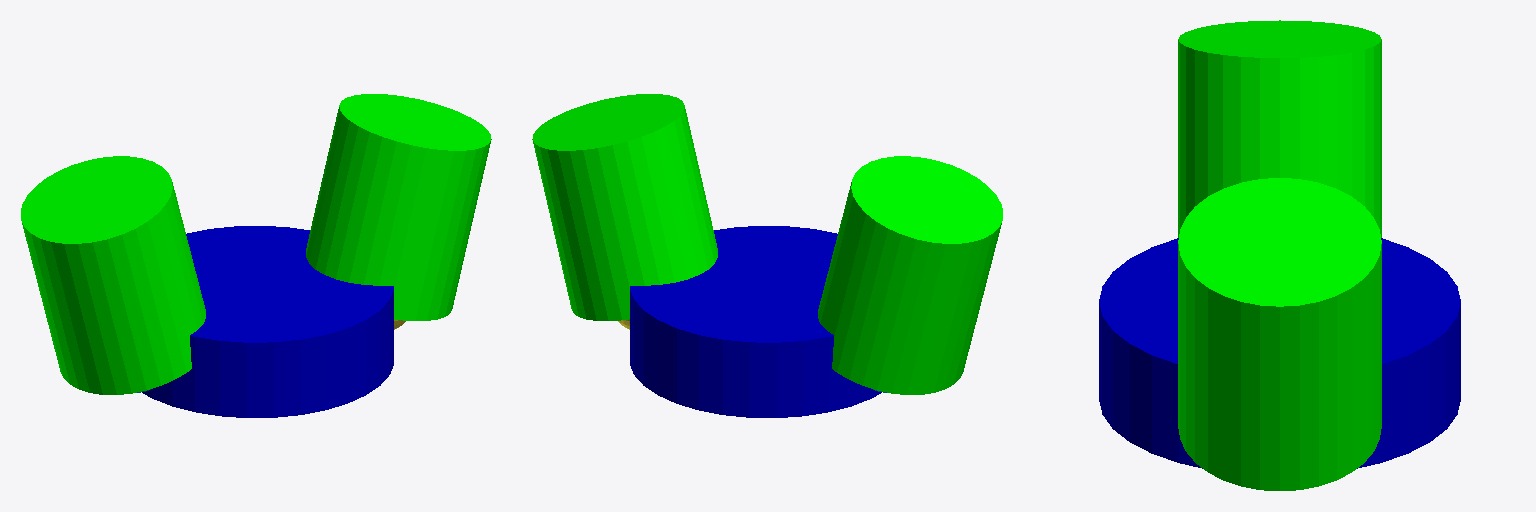
The robot description file, URDF, robot "gripper_2f_1j":
<?xml version='1.0' encoding='UTF-8'?>
<robot name="gripper_2f_1j">
  <link name="palm">
    <inertial>
      <origin xyz="0.0 0.0 0.0" rpy="0.0 -0.0 0.0"/>
      <mass value="1.0"/>
      <inertia ixx="1.0" ixy="0.0" ixz="0.0" iyy="1.0" iyz="0.0" izz="1.0"/>
    </inertial>
    <visual>
      <geometry>
        <cylinder radius="0.05" length="0.03"/>
      </geometry>
      <material name="blue"/>
      <origin xyz="0.0 0.0 0.0" rpy="0.0 -0.0 0.0"/>
    </visual>
    <collision>
      <geometry>
        <cylinder radius="0.05" length="0.03"/>
      </geometry>
      <origin xyz="0.0 0.0 0.0" rpy="0.0 0.0 0.0"/>
    </collision>
  </link>
  <link name="f11">
    <inertial>
      <origin xyz="0.0 0.0 0.0" rpy="0.0 -0.0 0.0"/>
      <mass value="1.0"/>
      <inertia ixx="1.0" ixy="0.0" ixz="0.0" iyy="1.0" iyz="0.0" izz="1.0"/>
    </inertial>
    <visual>
      <geometry>
        <cylinder radius="0.028120199259983766" length="0.06597677972001004"/>
      </geometry>
      <material name="green"/>
      <origin xyz="0.0 0.0 0.03298838986000502" rpy="0.0 -0.0 0.0"/>
    </visual>
    <collision>
      <geometry>
        <cylinder radius="0.028120199259983766" length="0.06597677972001004"/>
      </geometry>
      <origin xyz="0.0 0.0 0.05" rpy="0.0 0.0 0.0"/>
    </collision>
  </link>
  <link name="f21">
    <inertial>
      <origin xyz="0.0 0.0 0.0" rpy="0.0 -0.0 0.0"/>
      <mass value="1.0"/>
      <inertia ixx="1.0" ixy="0.0" ixz="0.0" iyy="1.0" iyz="0.0" izz="1.0"/>
    </inertial>
    <visual>
      <geometry>
        <cylinder radius="0.028120199259983766" length="0.06597677972001004"/>
      </geometry>
      <material name="green"/>
      <origin xyz="0.0 0.0 0.03298838986000502" rpy="0.0 -0.0 0.0"/>
    </visual>
    <collision>
      <geometry>
        <cylinder radius="0.028120199259983766" length="0.06597677972001004"/>
      </geometry>
      <origin xyz="0.0 0.0 0.05" rpy="0.0 0.0 0.0"/>
    </collision>
  </link>
  <link name="f11_base">
    <inertial>
      <origin xyz="0.0 0.0 0.0" rpy="0.0 -0.0 0.0"/>
      <mass value="1.0"/>
      <inertia ixx="1.0" ixy="0.0" ixz="0.0" iyy="1.0" iyz="0.0" izz="1.0"/>
    </inertial>
    <visual>
      <geometry>
        <sphere radius="0.015"/>
      </geometry>
      <origin xyz="0.0 0.0 0.0" rpy="0.0 -0.0 0.0"/>
    </visual>
  </link>
  <link name="f21_base">
    <inertial>
      <origin xyz="0.0 0.0 0.0" rpy="0.0 -0.0 0.0"/>
      <mass value="1.0"/>
      <inertia ixx="1.0" ixy="0.0" ixz="0.0" iyy="1.0" iyz="0.0" izz="1.0"/>
    </inertial>
    <visual>
      <geometry>
        <sphere radius="0.015"/>
      </geometry>
      <origin xyz="0.0 0.0 0.0" rpy="0.0 -0.0 0.0"/>
    </visual>
  </link>
  <joint name="f11_joint" type="revolute">
    <dynamics damping="100.0" friction="1.0"/>
    <limit effort="30.0" velocity="2.0" lower="-0.6" upper="0.25"/>
    <parent link="f11_base"/>
    <child link="f11"/>
    <axis xyz="0. 1. 0."/>
    <origin xyz="0.0 0.0 0.0" rpy="0.0 0.25 0.0"/>
  </joint>
  <joint name="f21_joint" type="revolute">
    <dynamics damping="100.0" friction="1.0"/>
    <limit effort="30.0" velocity="2.0" lower="-0.6" upper="0.25"/>
    <parent link="f21_base"/>
    <child link="f21"/>
    <axis xyz=" 0. -1.  0."/>
    <origin xyz="0.0 0.0 0.0" rpy="0.0 -0.25 0.0"/>
  </joint>
  <joint name="f11_base_joint" type="fixed">
    <parent link="palm"/>
    <child link="f11_base"/>
    <axis xyz="1. 0. 0."/>
    <origin xyz="0.05 0.0 0.0" rpy="0.0 0.0 0.0"/>
  </joint>
  <joint name="f21_base_joint" type="fixed">
    <parent link="palm"/>
    <child link="f21_base"/>
    <axis xyz="1. 0. 0."/>
    <origin xyz="-0.05 -0.0 0.0" rpy="0.0 0.0 0.0"/>
  </joint>
  <material name="blue">
    <color rgba="0.  0.  0.8 1. "/>
  </material>
  <material name="green">
    <color rgba="0. 1. 0. 1."/>
  </material>
</robot>

--- What the picture shows (computed from the rendered views, not written in the file) ---
Views: 3 orthographic renders of the robot side by side, from view 1: azimuth 30°, elevation 25°; view 2: azimuth 150°, elevation 25°; view 3: azimuth 270°, elevation 25°.
Robot: gripper_2f_1j — 5 links, 4 joints (2 revolute, 2 fixed); root link palm; default pose: all joints at 0.
Links seen in each view (by area): view 1: f21, palm, f11; view 2: f21, palm, f11; view 3: f11, f21, palm.
Boxes of the visible links, x1,y1,x2,y2 form: f21: (21,156,205,394); palm: (142,226,393,417); f11: (306,94,491,320); f21: (818,156,1002,394); palm: (630,226,881,417); f11: (532,94,717,320); f11: (1178,178,1381,490); f21: (1178,20,1381,237); palm: (1099,238,1460,468).
Size in the robot's own frame: 0.1871 by 0.1 by 0.0859 metres.
Geometry: primitives only (box / cylinder / sphere), no mesh files.